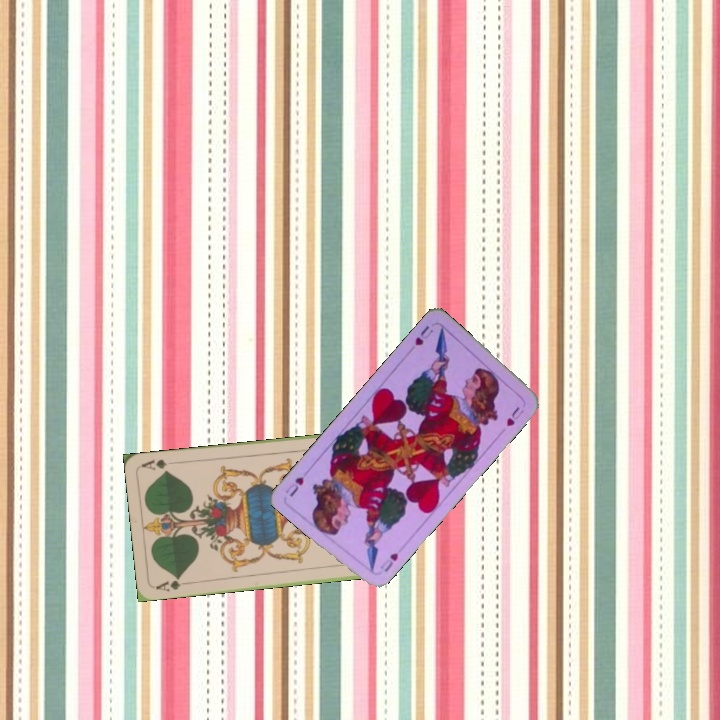GA: (152, 573, 192, 594)
HU: (411, 321, 436, 348), (376, 548, 401, 575)
